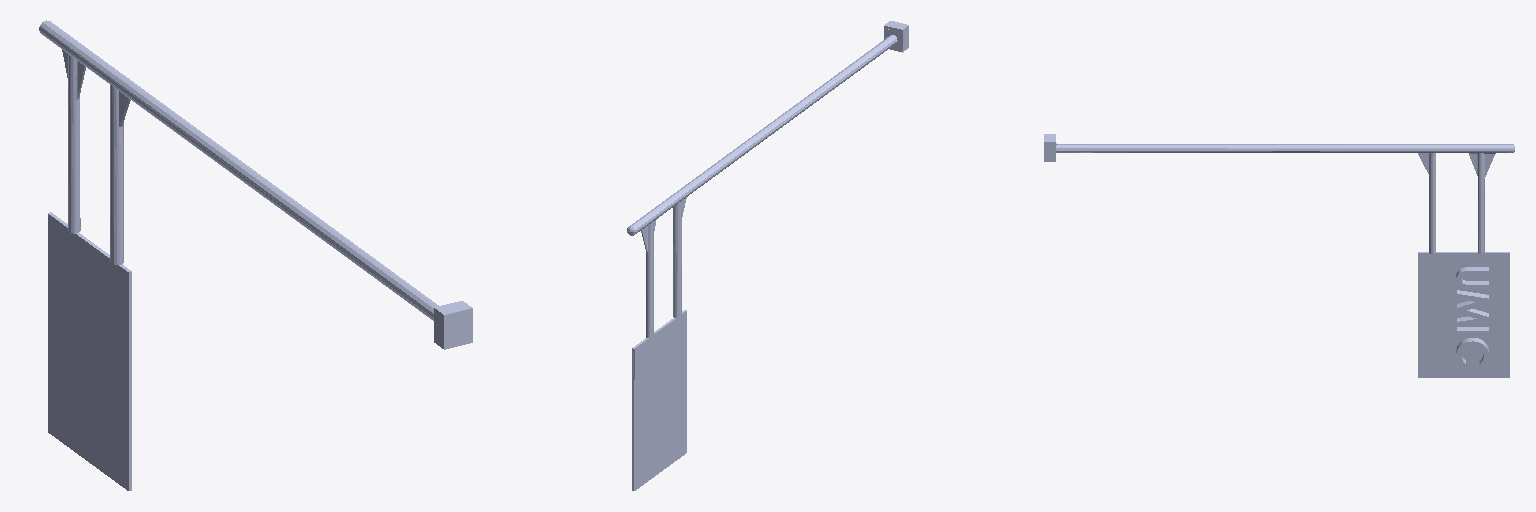
The robot description file, URDF, robot "umic_signboard":
<?xml version="1.0" encoding="utf-8"?>
<!-- This URDF was automatically created by SolidWorks to URDF Exporter! Originally created by [author] ([email redacted]) 
     Commit Version: 1.5.1-0-g916b5db  Build Version: 1.5.7152.31018
     For more information, please see http://wiki.ros.org/sw_urdf_exporter -->
<robot
  name="umic_signboard">
  <static>1</static>   
  <link
    name="umic_signboard">
    <inertial>
      <origin
        xyz="0 -0.15 0"
        rpy="0 1.57 0" />
      <mass
        value="2.12224" />
      <inertia
        ixx="0.0029263"
        ixy="1.14050000000001E-05"
        ixz="-0.0012296"
        iyy="0.0041735"
        iyz="-1.24610000000002E-05"
        izz="0.00125" />
    </inertial>
    <visual>
      <origin
        xyz="0 -0.15 0"
        rpy="0 1.57 0" />
      <geometry>
        <mesh
          filename="package://signboard/meshes/umic_signboard.STL" />
      </geometry>
      <material
        name="">
        <color
          rgba="0.79216 0.81961 0.93333 1" />
        <texture
          filename="package://signboard/textures/" />
      </material>
    </visual>
    <collision>
      <origin
        xyz="0 0 0"
        rpy="0 1.57 0" />
      <geometry>
        <mesh
          filename="package://signboard/meshes/umic_signboard.STL" />
      </geometry>
    </collision>
  </link>
  <allow_auto_disable>1</allow_auto_disable>   
</robot>

--- What the picture shows (computed from the rendered views, not written in the file) ---
3 views of the same robot in one strip: view 1: azimuth 30°, elevation 25°; view 2: azimuth 150°, elevation 25°; view 3: azimuth 270°, elevation 25° (orthographic).
Model umic_signboard with 1 links and 0 joints (none), rooted at umic_signboard, posed all joints at 0.
Visible links, largest first — view 1: umic_signboard; view 2: umic_signboard; view 3: umic_signboard.
Boxes of the visible links, bbox=[...] form: umic_signboard: bbox=[39, 20, 472, 490]; umic_signboard: bbox=[627, 21, 908, 490]; umic_signboard: bbox=[1044, 134, 1514, 377].
Size in the robot's own frame: 0.022 by 0.5225 by 0.292 metres.
1 mesh visuals loaded from 1 distinct referenced files (1 binary STL).